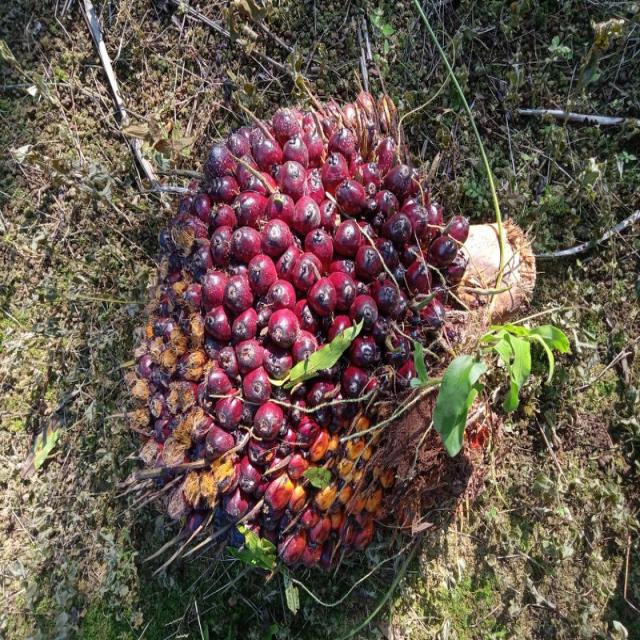fraksi 1: (78, 81, 547, 609)
